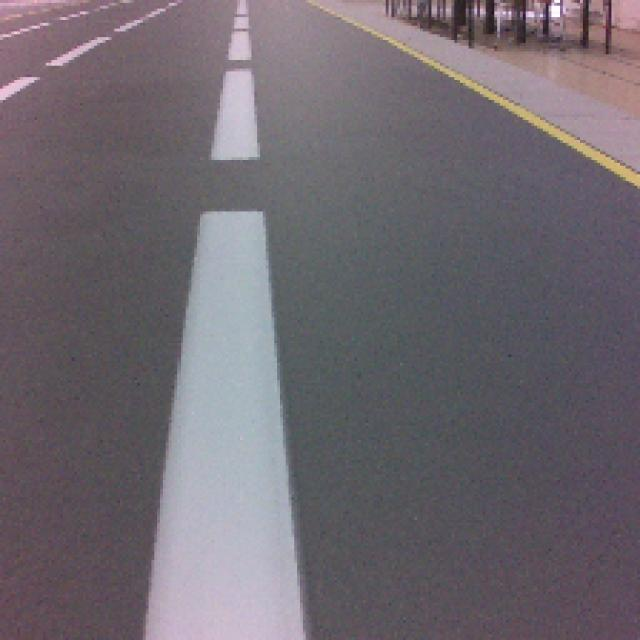Guard rail: (135, 213, 309, 637)
